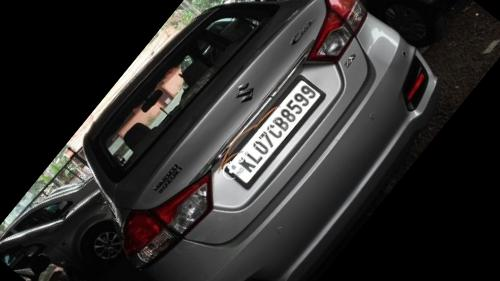plate: (212, 62, 339, 203)
